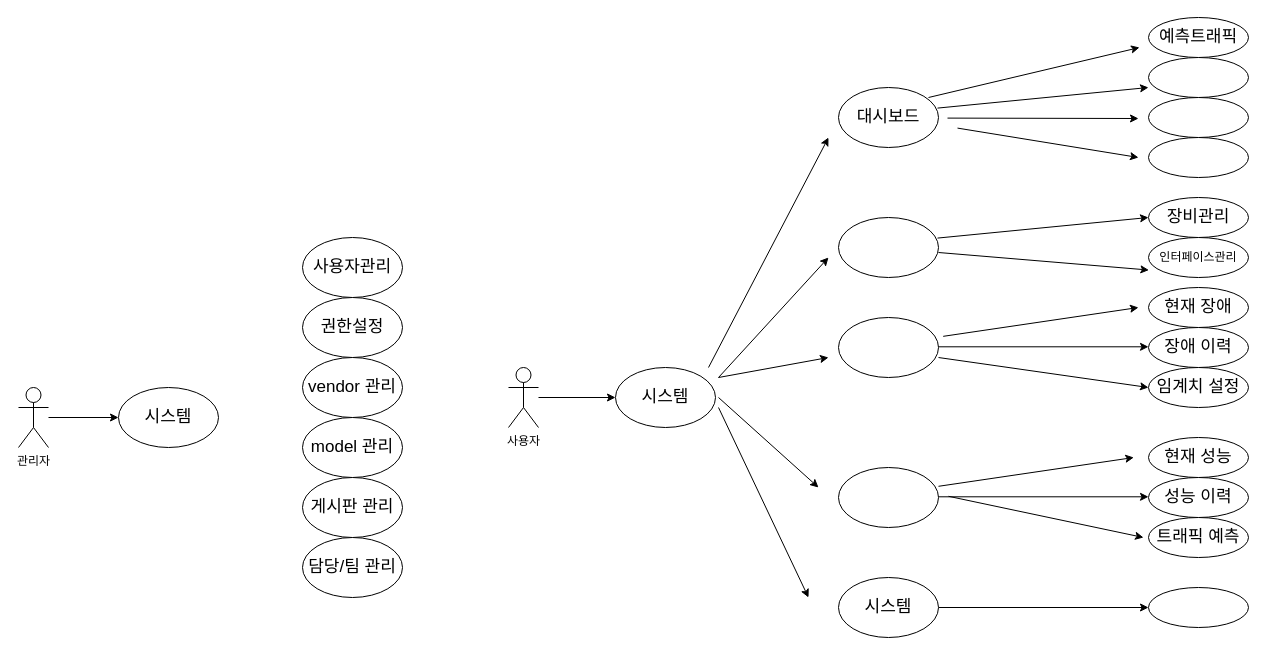
The diagram is 1266 pixels wide and 655 high, and some of its shapes have lost their labels. Each missing label, with the centre of its shape:
"게시판" goes at point (1198, 607).
"구성" goes at point (888, 247).
"망구성도" goes at point (1198, 77).
"분석" goes at point (888, 497).
"성능정보" goes at point (1198, 157).
"장애" goes at point (888, 347).
"장애리스트" goes at point (1198, 117).
